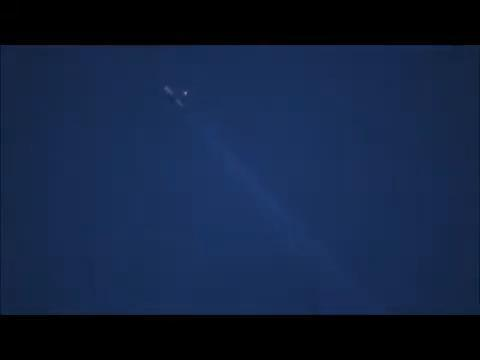Plane: (148, 79, 204, 114)
